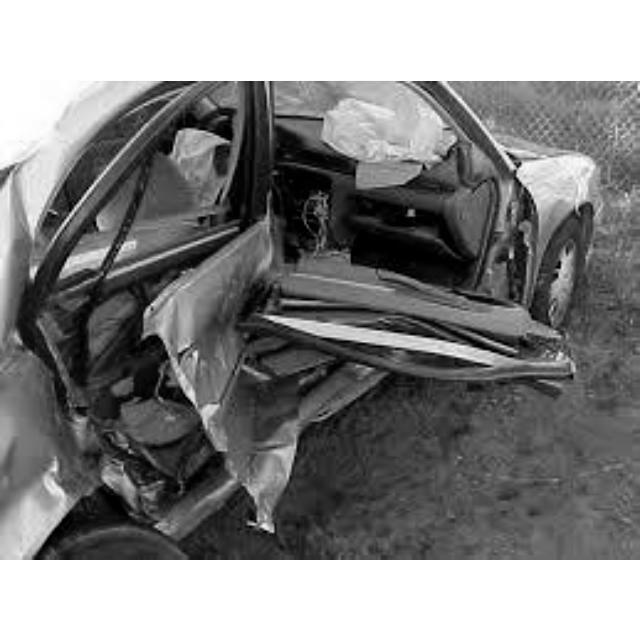doorouter-dent: (52, 127, 244, 455)
fender-dent: (514, 147, 598, 228)
